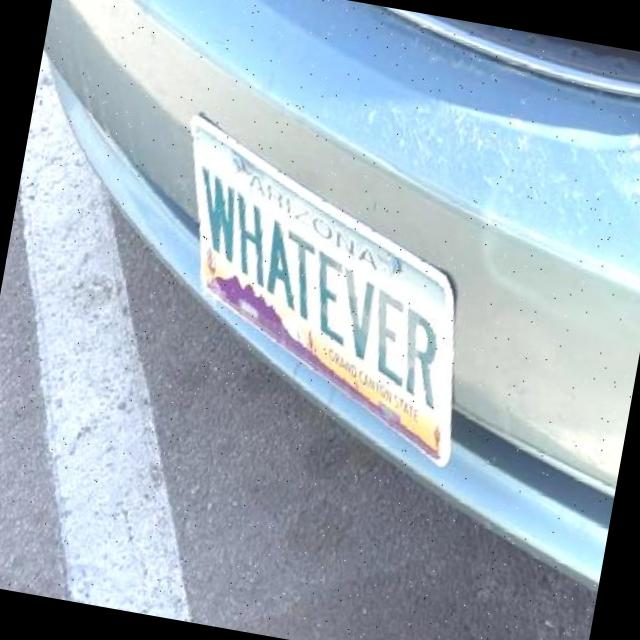LicensePlate: (191, 115, 458, 472)
